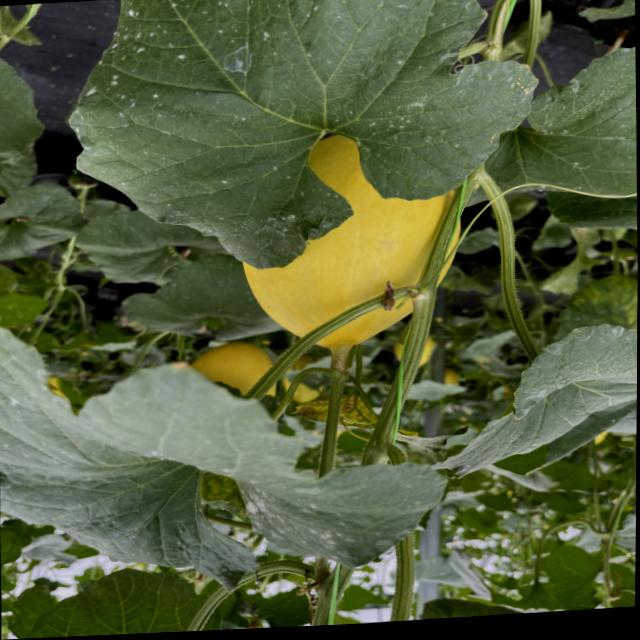alternaria leaf blight: (296, 388, 376, 433)
downy mildew: (458, 311, 637, 482)
healthy: (0, 570, 225, 640)
powdery mildew: (71, 0, 542, 281), (0, 348, 434, 592), (488, 44, 638, 243)
